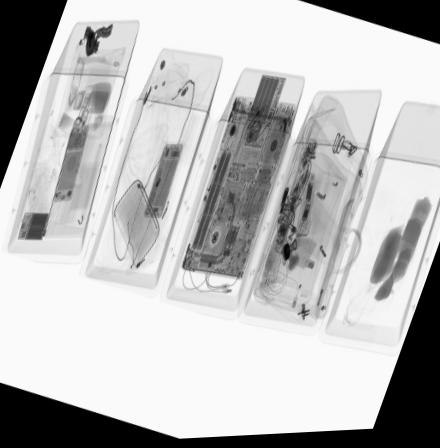Powerbank: (245, 77, 286, 129), (15, 210, 49, 238)
